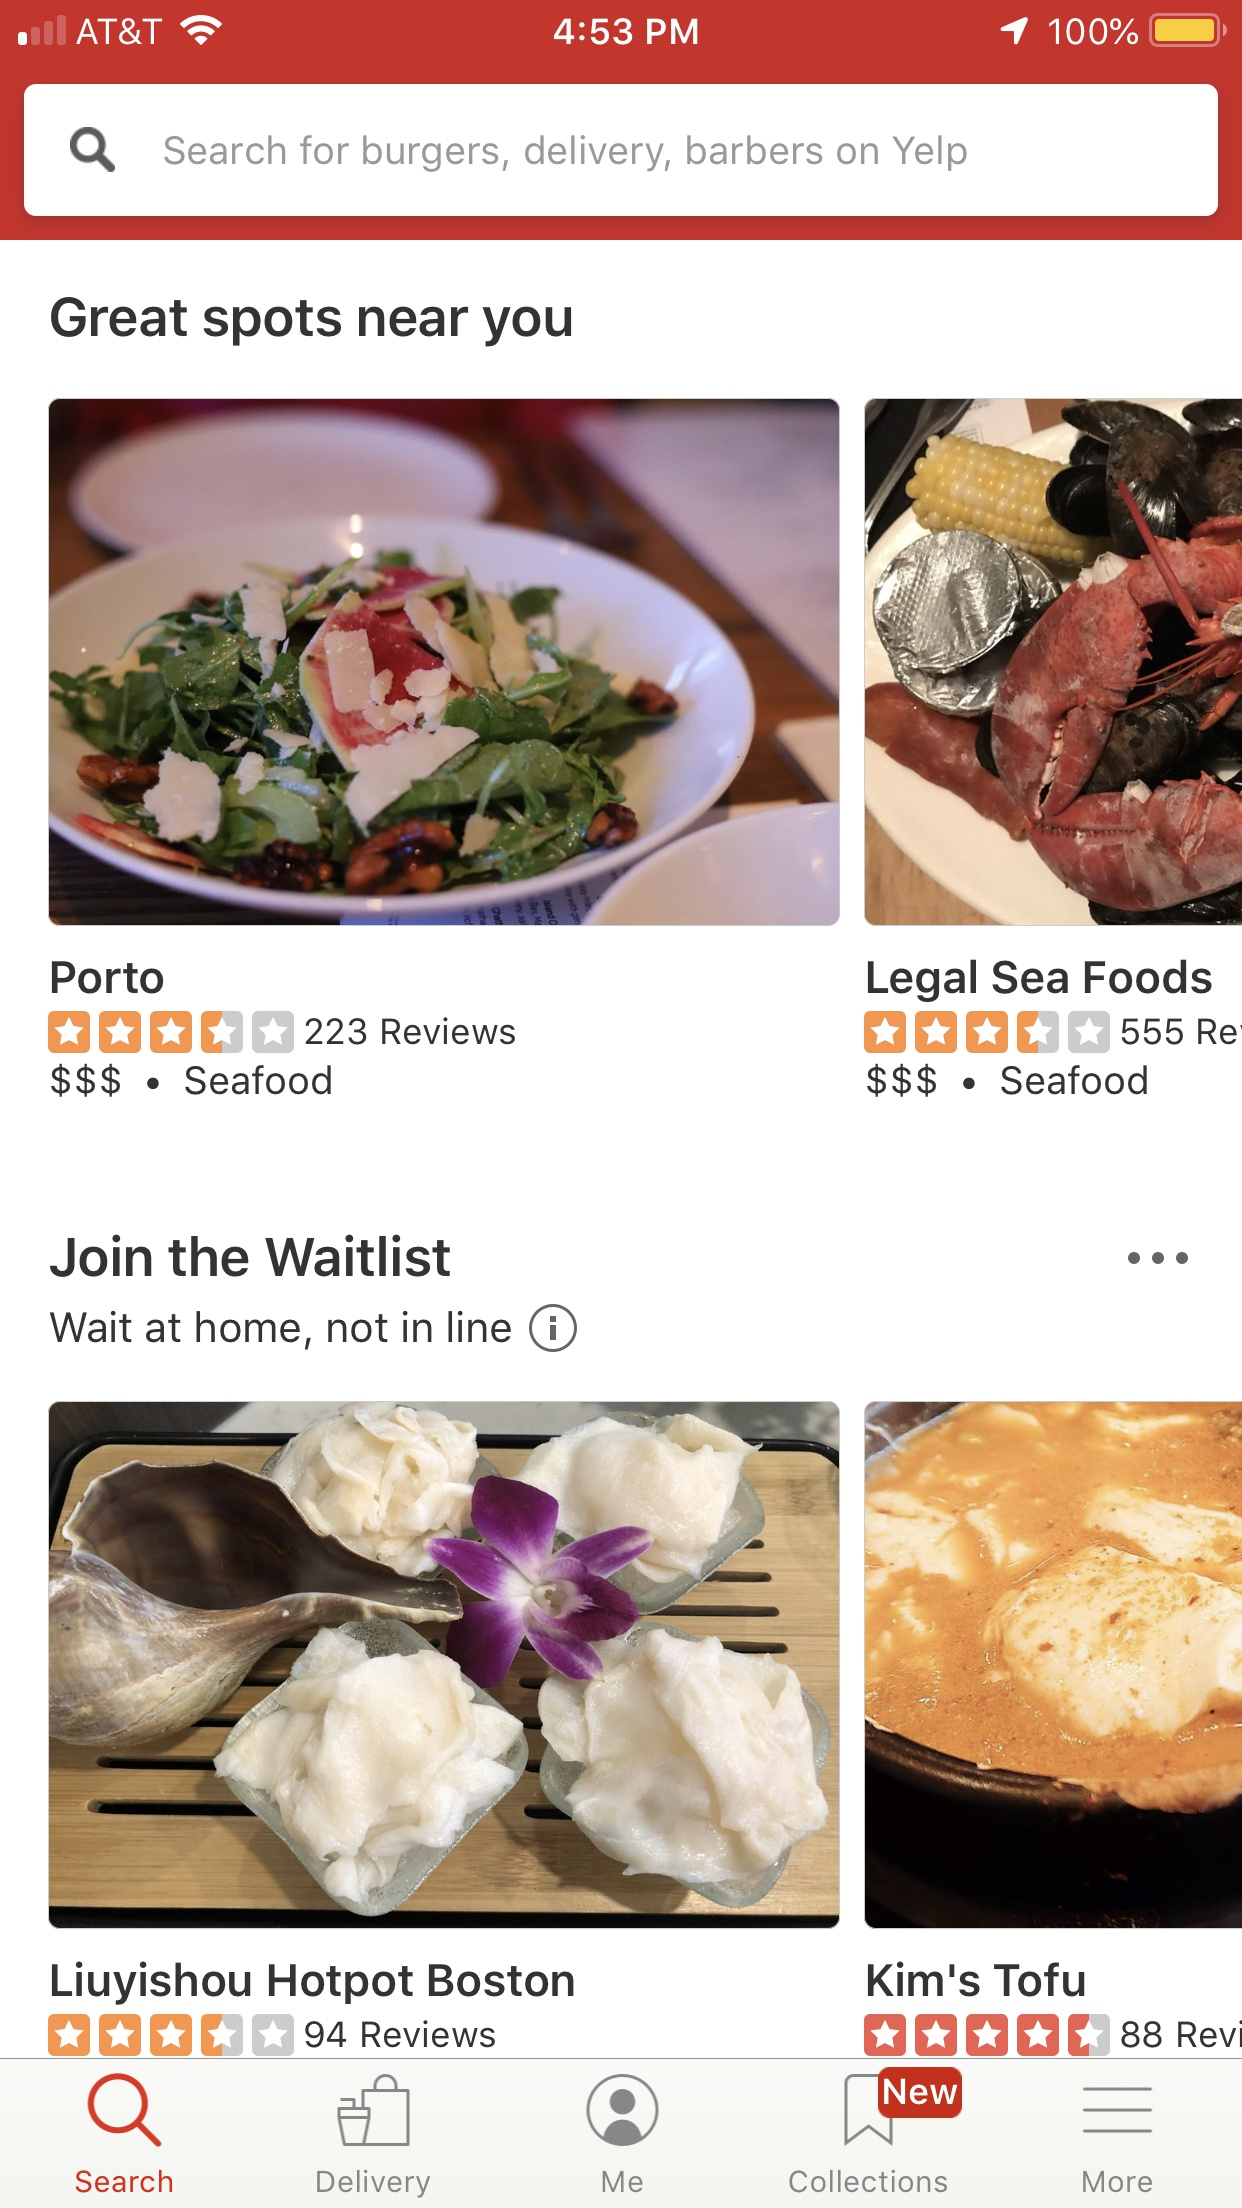EditText: (24, 83, 1218, 217)
Icon: (863, 1011, 1112, 1055), (863, 2012, 1112, 2056), (49, 1010, 296, 1054), (49, 2012, 296, 2056), (843, 2065, 963, 2147), (88, 2072, 164, 2147), (335, 2072, 409, 2147), (585, 2073, 660, 2147), (1081, 2085, 1154, 2134), (529, 1303, 579, 1353), (71, 127, 117, 174), (1127, 1251, 1189, 1265)
Image: (49, 1401, 842, 1929), (50, 399, 842, 927), (864, 397, 1242, 927), (864, 1400, 1242, 1929)
Text: (164, 136, 968, 174), (52, 296, 573, 347), (52, 1959, 575, 2005), (52, 1310, 513, 1350), (50, 1234, 450, 1278), (867, 958, 1213, 1004), (867, 1959, 1086, 1997), (305, 1018, 517, 1046), (305, 2020, 497, 2047), (999, 1065, 1148, 1096), (187, 1065, 334, 1096), (789, 2169, 948, 2194), (52, 960, 165, 995), (1121, 2018, 1242, 2049), (1121, 1018, 1242, 1046), (317, 2169, 432, 2199), (52, 1063, 121, 1099), (866, 1063, 937, 1098), (74, 2169, 174, 2193), (1081, 2169, 1153, 2193), (602, 2169, 645, 2191)
UpperTaskBar: (2, 2, 1242, 49)
